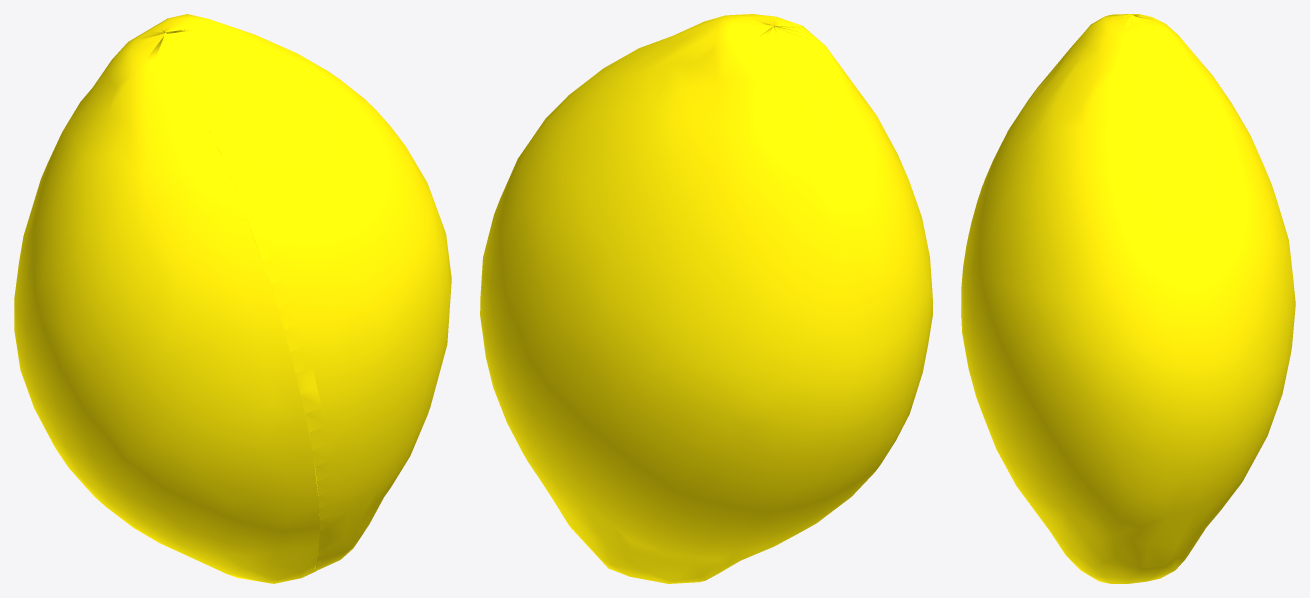
File: Lemon.fbx
3 renders of one model, left to right at view 1: azimuth 30°, elevation 25°; view 2: azimuth 150°, elevation 25°; view 3: azimuth 270°, elevation 25°, orthographic. The views are drawn at different scales.
Visible parts, largest first — view 1: Sphere01; view 2: Sphere01; view 3: Sphere01.
Part boxes in pixels (bbox=[...]): Sphere01: bbox=[14, 14, 451, 583]; Sphere01: bbox=[480, 14, 932, 583]; Sphere01: bbox=[961, 14, 1295, 583].
Size of the model in its own units: 1686 by 2287 by 1351.
